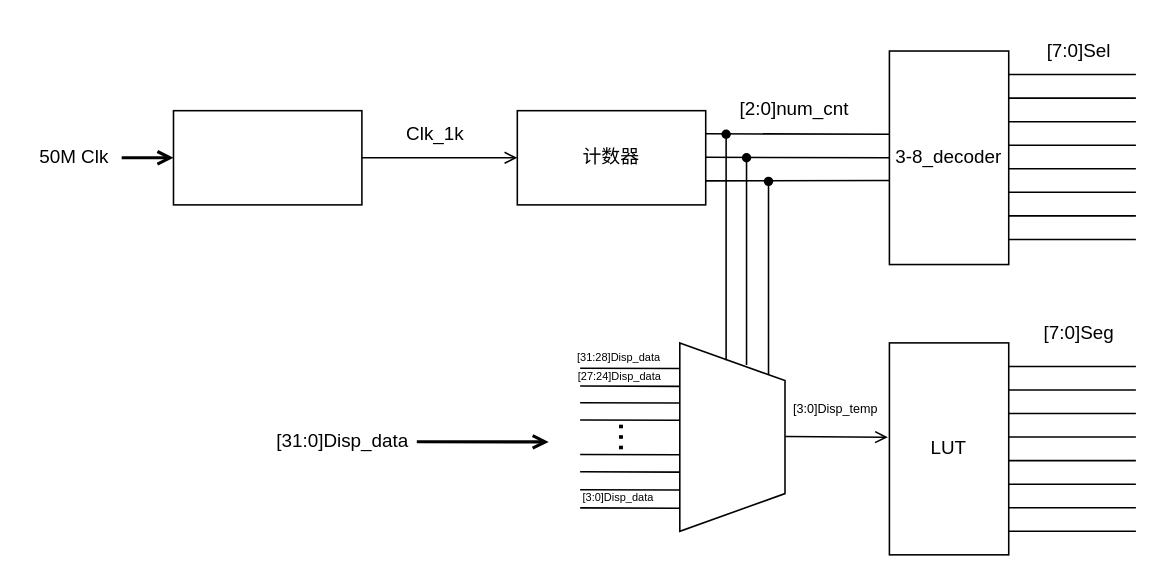
Image size: 1165x582. Some labels were removed from this diagram. Each missing label, with the centre of its shape:
"MUX" goes at [731,436].
"时钟分频" goes at [267,157].
